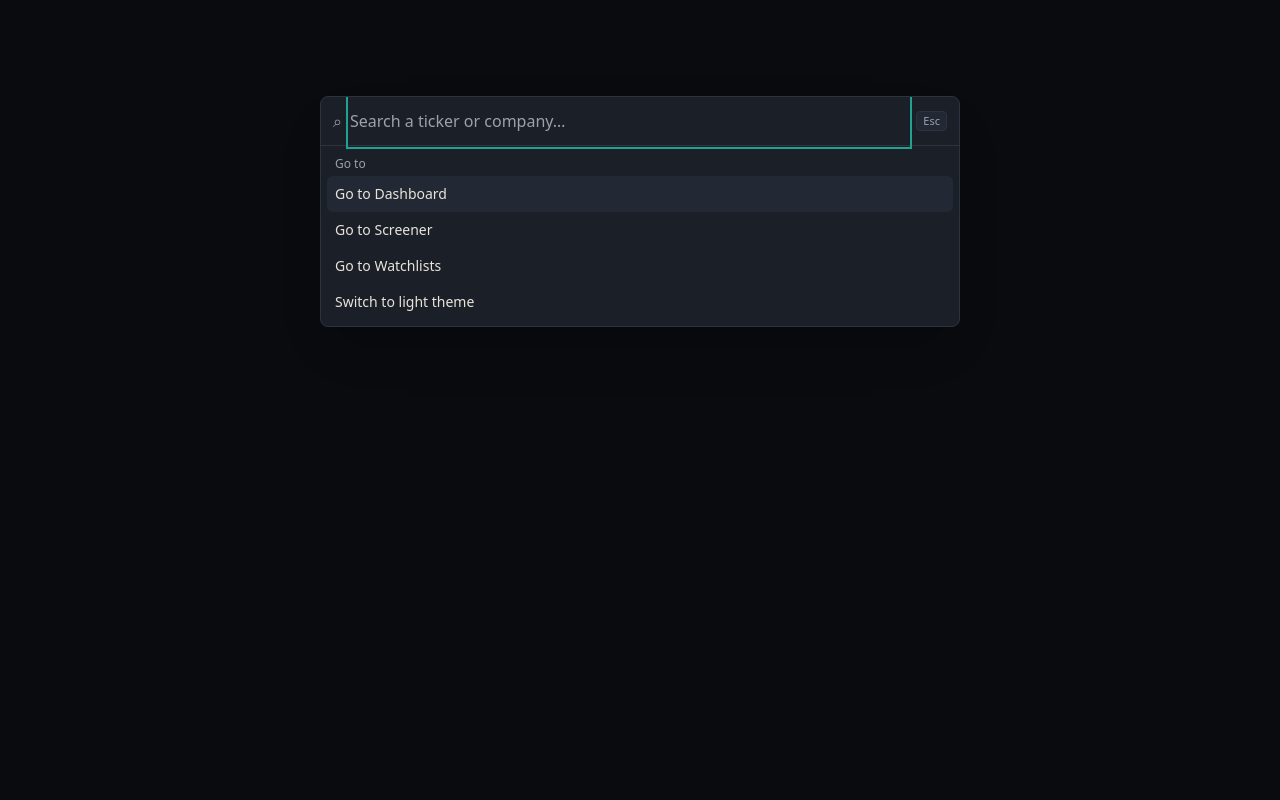
Scenario: CommandPalette › says what to try when nothing matches
In the dropdown with placeholder "Search a ticker or company…": point(629, 121) left=350, top=97, right=908, bottom=145, type "zzz"
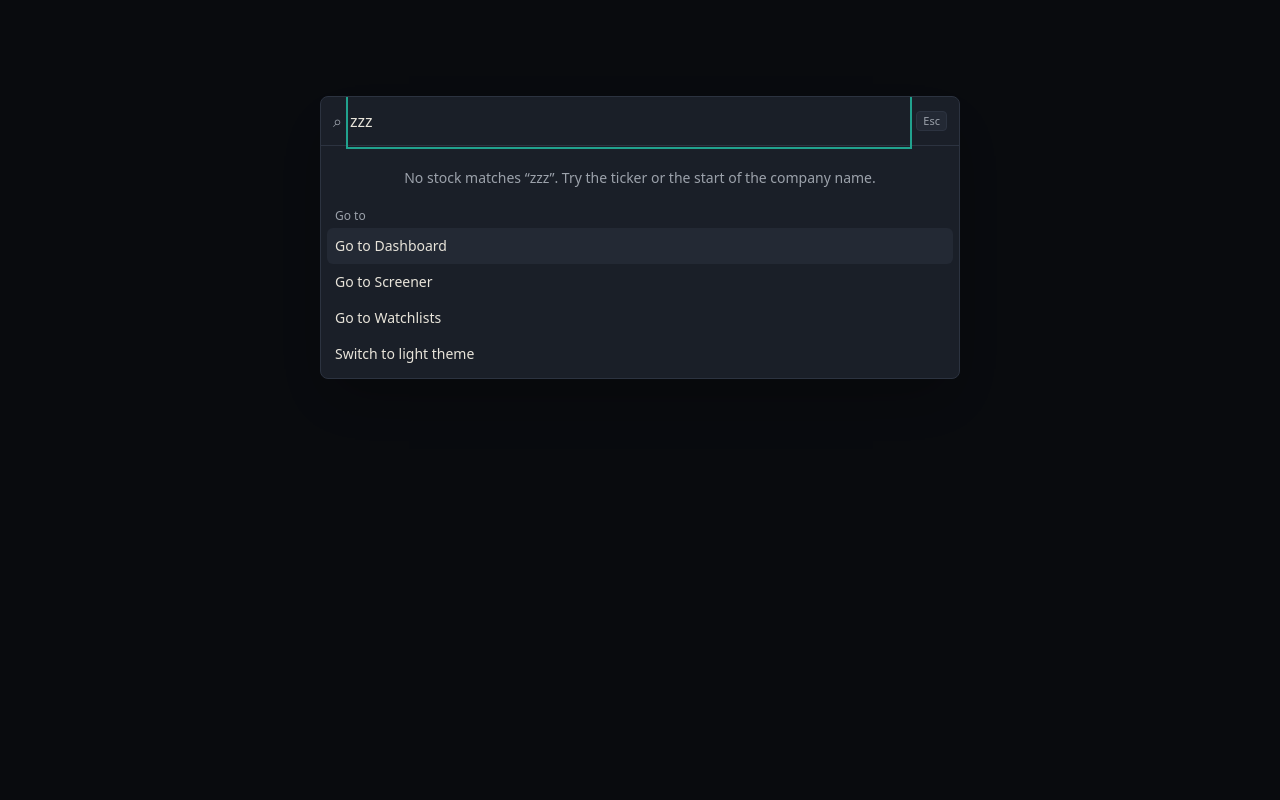
Check: the text "No stock matches “zzz”" is shown, box left=404, top=168, right=876, bottom=187
